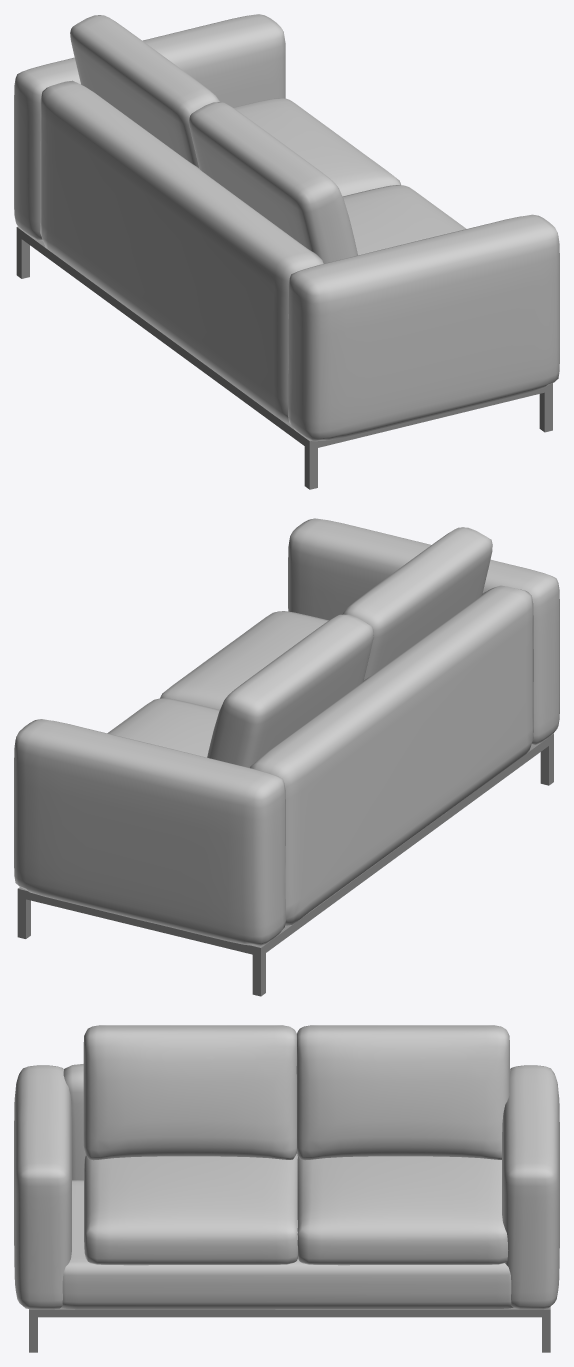
Rendered from sofa2.fbx.
The picture shows the model from 3 angles, top to bottom: view 1: azimuth 30°, elevation 25°; view 2: azimuth 150°, elevation 25°; view 3: azimuth 270°, elevation 25°; orthographic projection. The views are drawn at different scales.
Parts seen in each view (by area): view 1: sofo2; view 2: sofo2; view 3: sofo2.
Boxes of the visible parts, x1,y1,x2,y2 form: sofo2: (14, 14, 559, 489); sofo2: (14, 518, 559, 996); sofo2: (14, 1025, 559, 1352).
Bounding box in the file's own units: 161 × 77.27 × 77.83.
